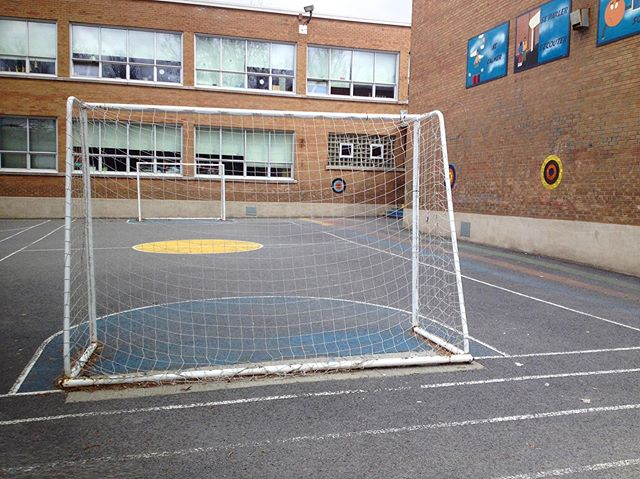building: (1, 1, 398, 228), (417, 1, 640, 252)
